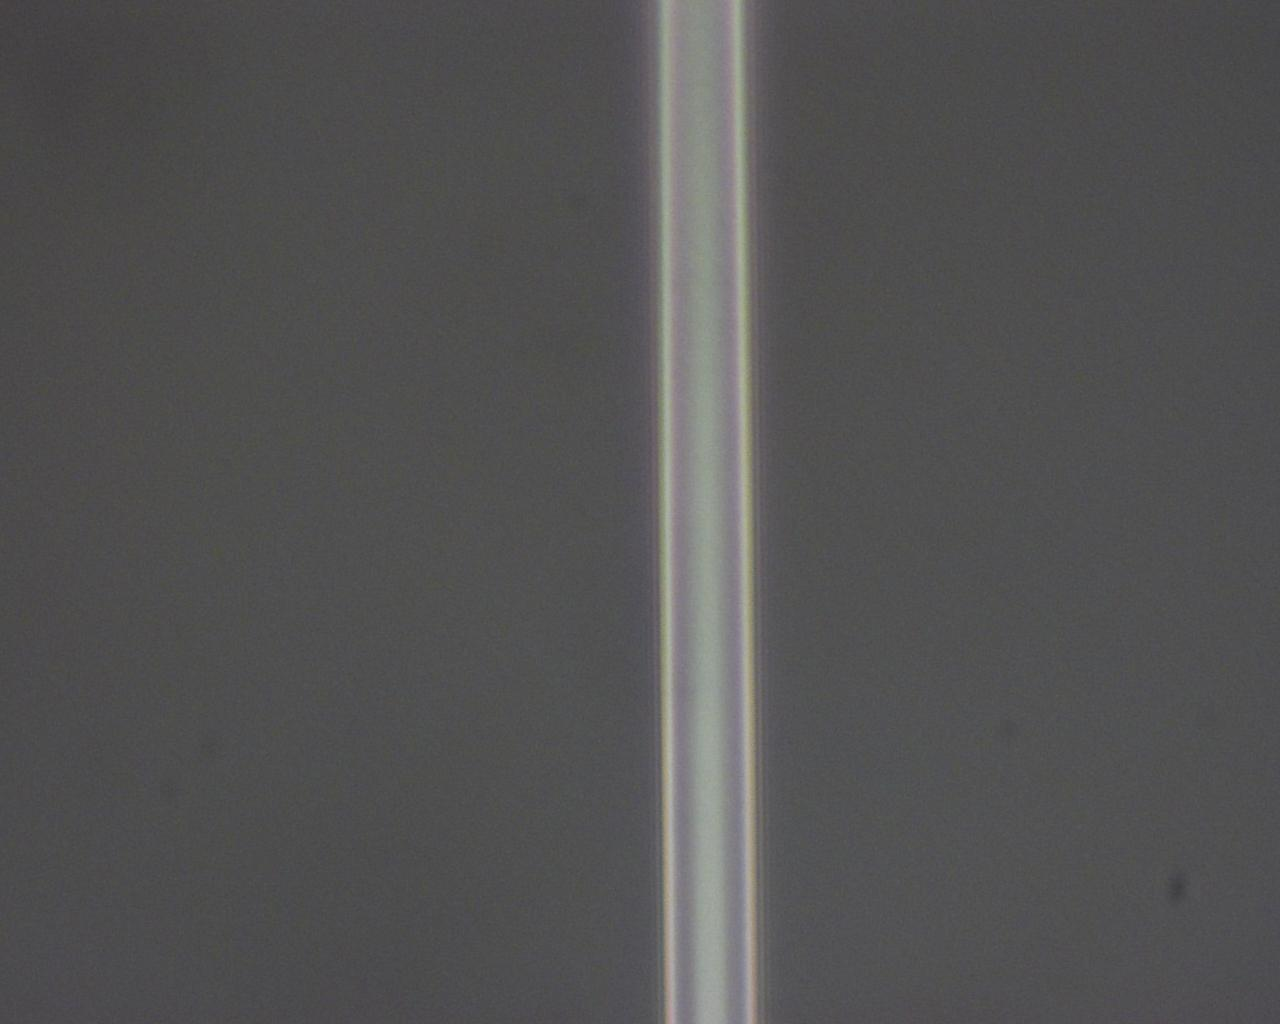fiber: (658, 0, 761, 1024)
